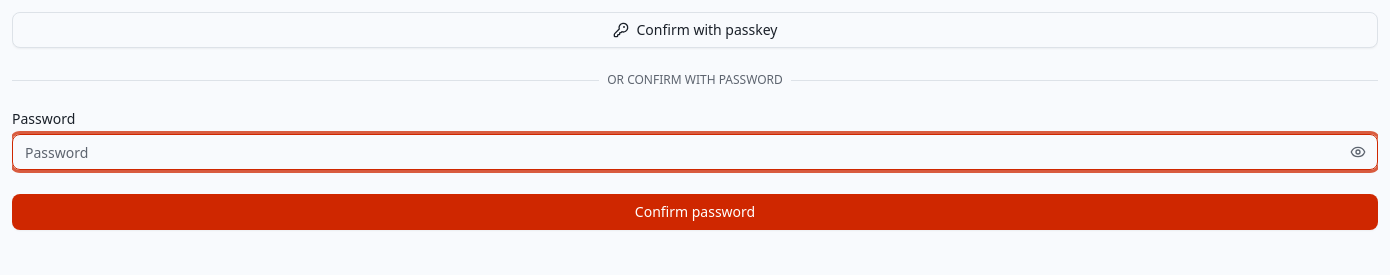
Test case: Auth/ConfirmPassword › shows the mapped field error when validation fails
The image size is (1390, 275).
Click the button "Confirm password" at [695, 212], box [12, 194, 1378, 230]
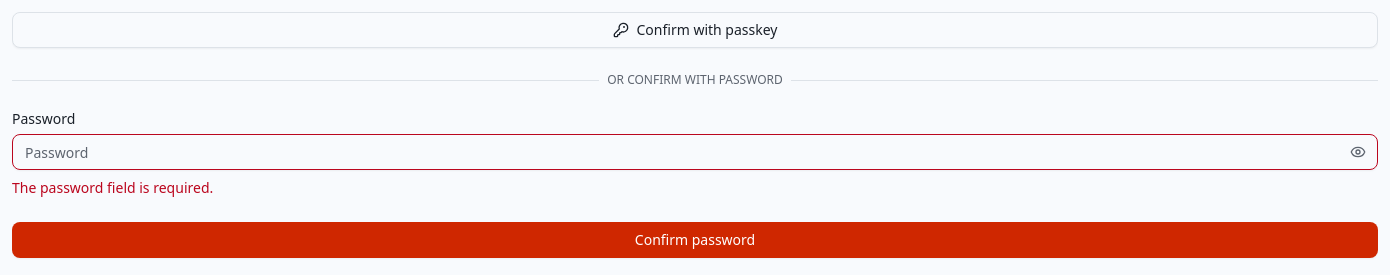
Result: the text "The password field is required." is shown at [12, 178, 213, 197]
